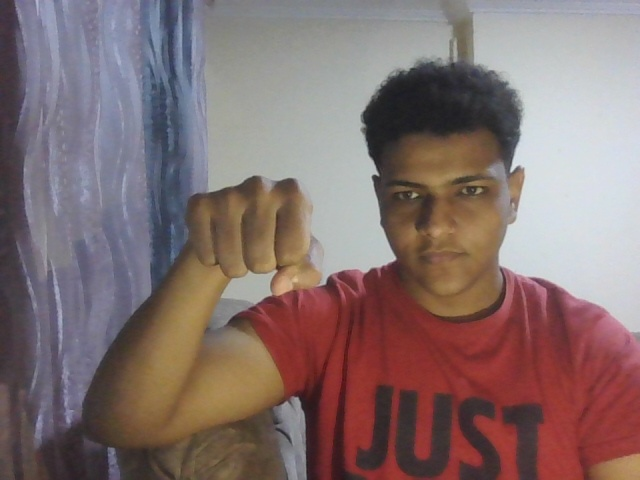yes: (179, 142, 335, 330)
